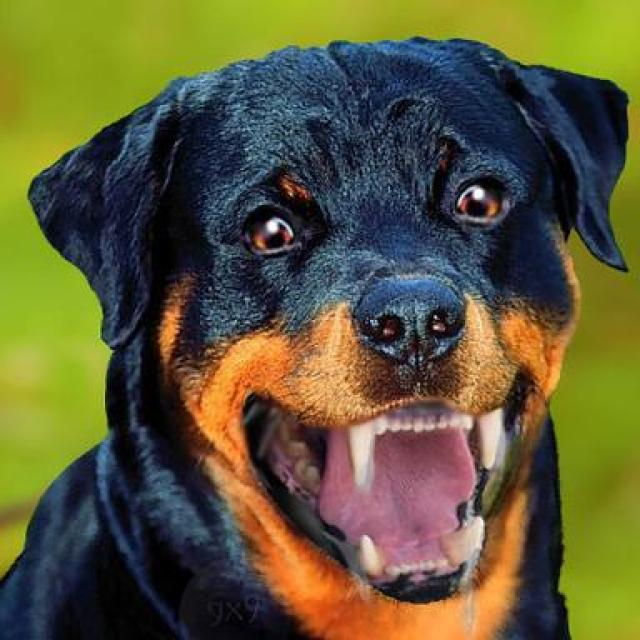angry: (19, 41, 635, 607)
